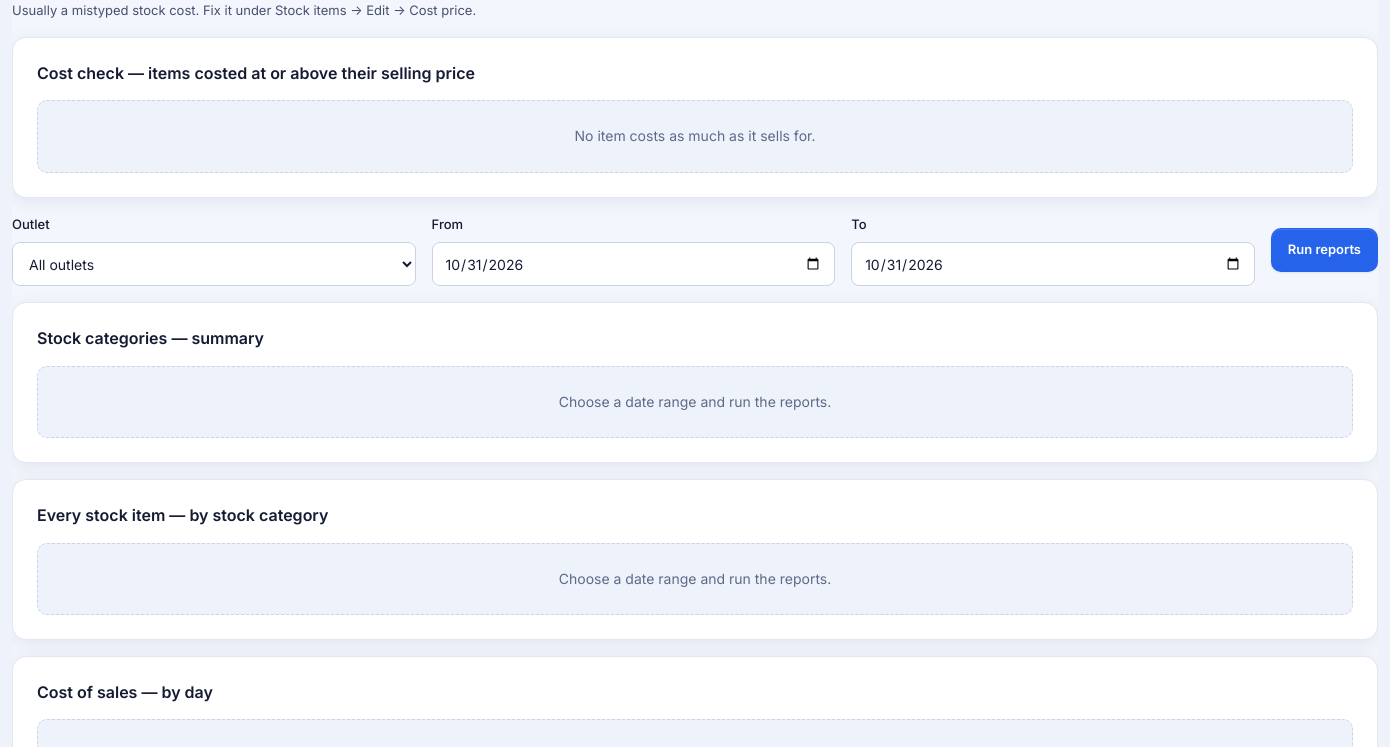
<StockReportsTab> › bug fix: a stock item no longer in the catalogue (archived) still renders as a labelled #id, never a raw bare number
Click the button "Run reports".
click(1324, 250)  # box [1271,228,1378,272]
(page scrolled)
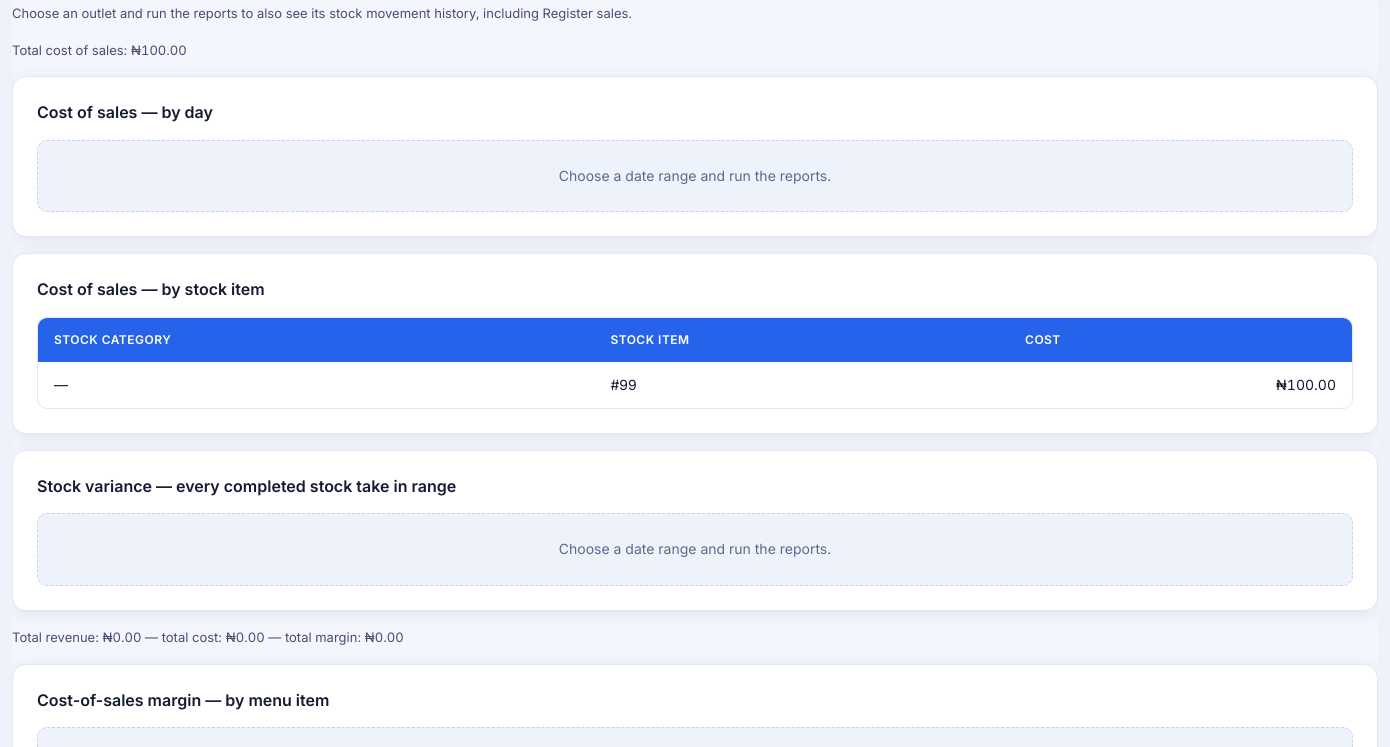
Check: the text "#99" is shown, box [594,361,1009,408]
